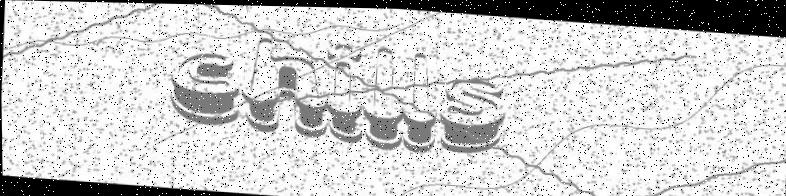c: (165, 47, 243, 128)
h: (239, 34, 330, 138)
i: (321, 38, 366, 144)
l: (360, 43, 406, 151), (399, 48, 439, 153)
s: (436, 74, 506, 154)
